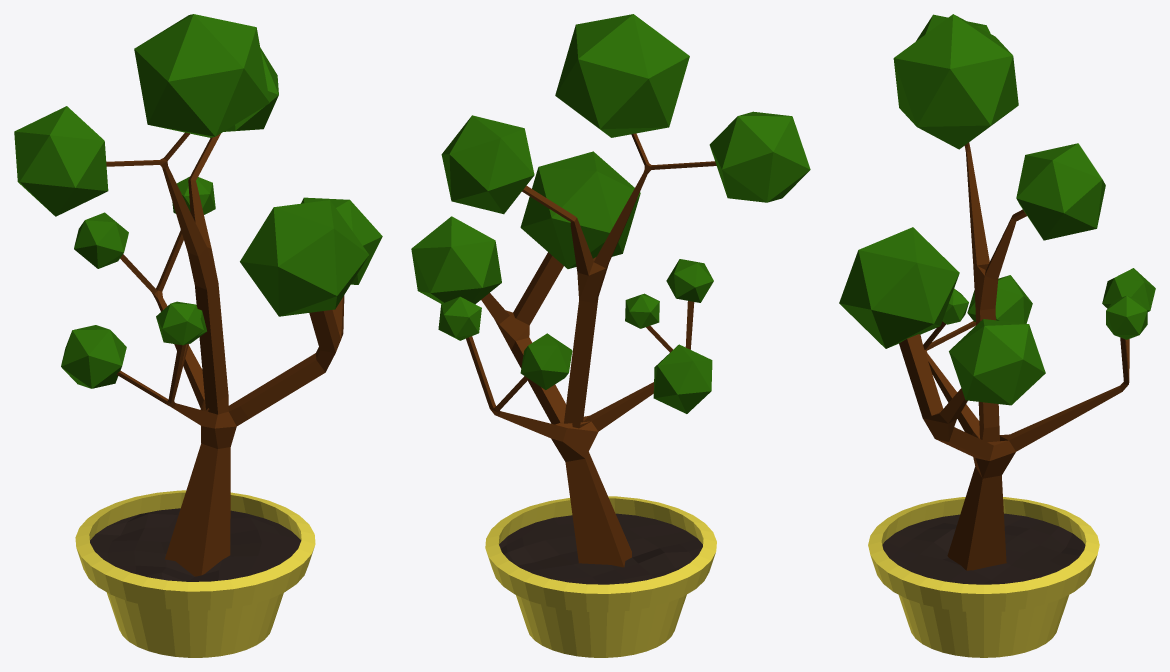
The model's file is FlowerPot.fbx.
The picture shows the model from 3 angles, left to right: view 1: azimuth 30°, elevation 25°; view 2: azimuth 150°, elevation 25°; view 3: azimuth 270°, elevation 25°; orthographic projection. The views are drawn at different scales.
Visible parts, largest first — view 1: Icosphere.001, Cube, Cylinder, Icosphere, Cylinder.001; view 2: Icosphere.001, Cube, Cylinder, Icosphere, Cylinder.001; view 3: Icosphere.001, Icosphere, Cylinder, Cube, Cylinder.001.
Part boxes in pixels (x1,y1,x2,y2): Icosphere.001: [14, 14, 278, 388]; Cube: [106, 132, 344, 576]; Cylinder: [75, 490, 315, 657]; Icosphere: [172, 176, 382, 316]; Cylinder.001: [90, 508, 301, 581]; Icosphere.001: [441, 14, 810, 413]; Cube: [466, 133, 716, 567]; Cylinder: [485, 496, 716, 657]; Icosphere: [411, 151, 640, 340]; Cylinder.001: [499, 513, 702, 584]; Icosphere.001: [893, 14, 1155, 324]; Icosphere: [839, 227, 1147, 405]; Cylinder: [868, 497, 1099, 657]; Cube: [899, 142, 1129, 570]; Cylinder.001: [882, 513, 1085, 584].
Size of the model in its own units: 115 by 182 by 86.29.
